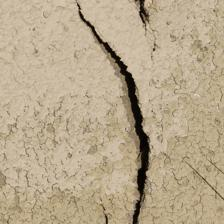Crack: (0, 0, 191, 29), (22, 68, 133, 83)
